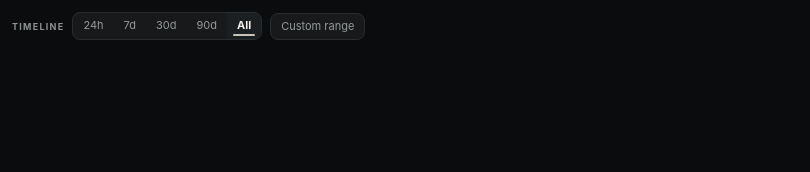
Test: what a register says about the window › refuses to imply a denominator the page could not produce
What coordinates should you click on to do the following:
click the radio button labelled "30d"
I would click on:
 (166, 26)
Its box is [146, 13, 186, 39].
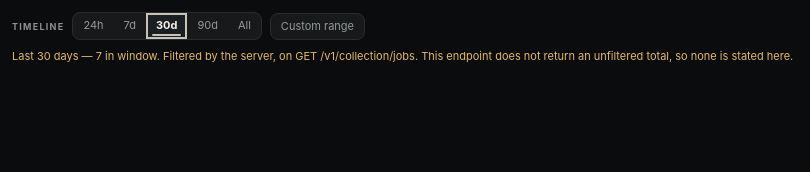
Check: the text with test id "tr-notice" shows "This endpoint does not return an unfiltered total, so none is stated here.", box [12, 49, 793, 63]
